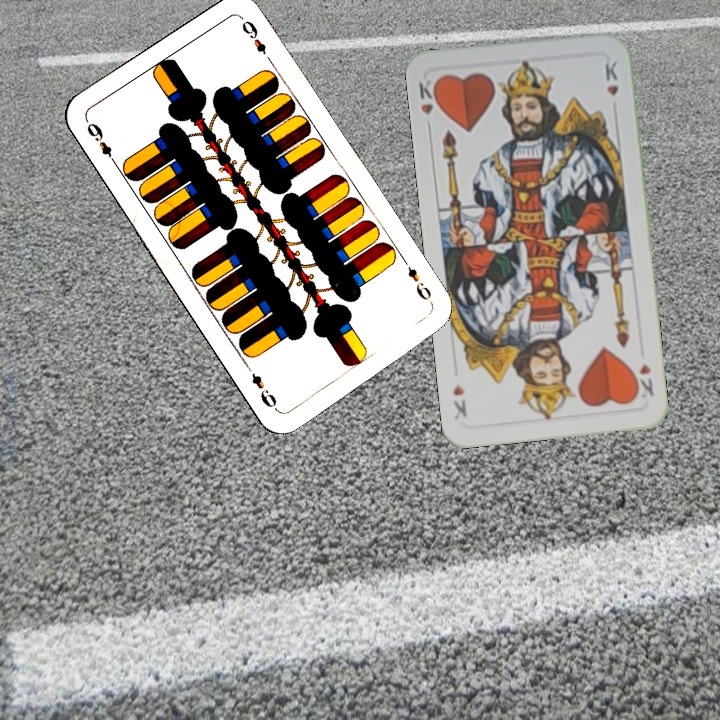E9: (82, 117, 121, 169), (399, 256, 437, 309)
HK: (415, 75, 443, 134), (629, 359, 656, 400)
